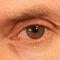eye: (27, 26, 43, 39)
